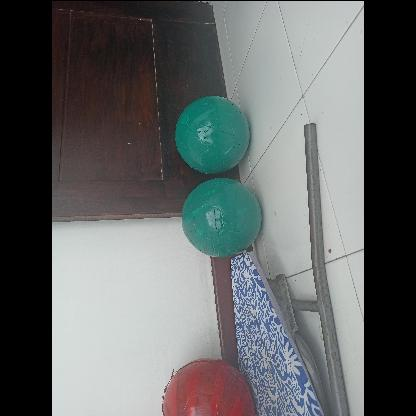green_ball: (180, 176, 262, 257), (173, 93, 251, 171)
